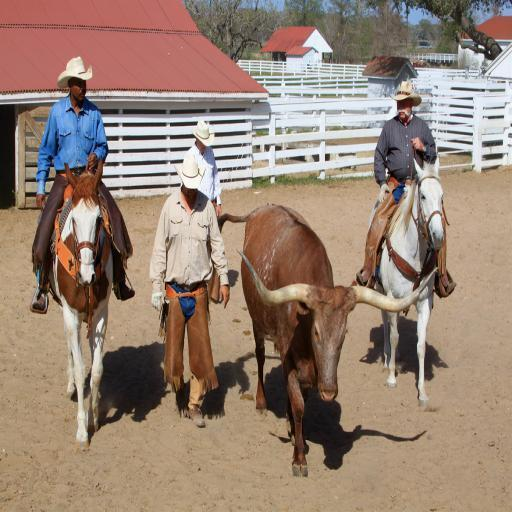horse: (368, 156, 444, 414), (48, 163, 114, 452)
